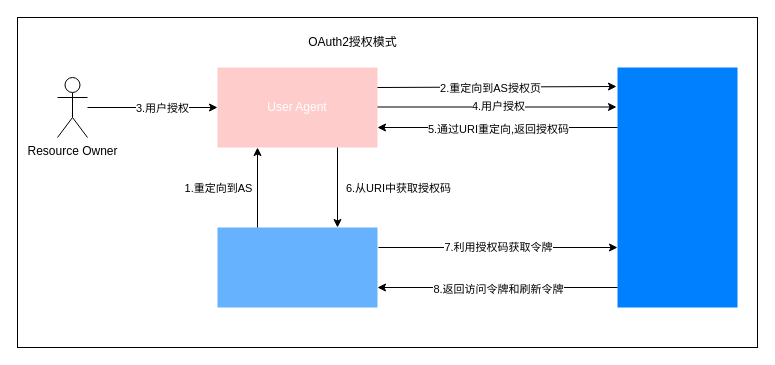
Image size: 775x365. Some labels were removed from this diagram. Here are the shapes that lost their labels. From the top down, the box of each, then its label:
(617, 67, 737, 307): Authorization Server
(217, 227, 377, 307): Client
